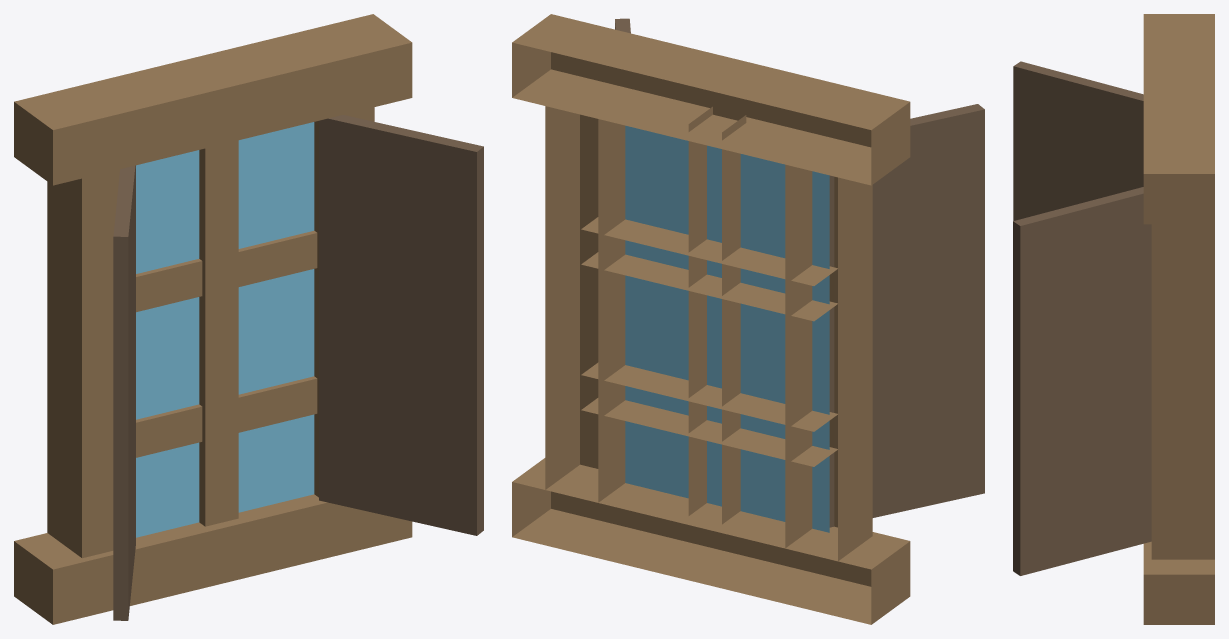
Rendered from House_Window_02.fbx.
3 views of the same model, side by side, from view 1: azimuth 30°, elevation 25°; view 2: azimuth 150°, elevation 25°; view 3: azimuth 270°, elevation 25° (orthographic). The views are drawn at different scales.
Visible parts, largest first — view 1: House_Window_02; view 2: House_Window_02; view 3: House_Window_02.
Boxes of the visible parts, x1,y1,x2,y2 form: House_Window_02: (14, 14, 483, 624); House_Window_02: (512, 14, 984, 624); House_Window_02: (1013, 14, 1214, 624).
Size of the model in its own units: 30.83 by 39.36 by 15.95.
